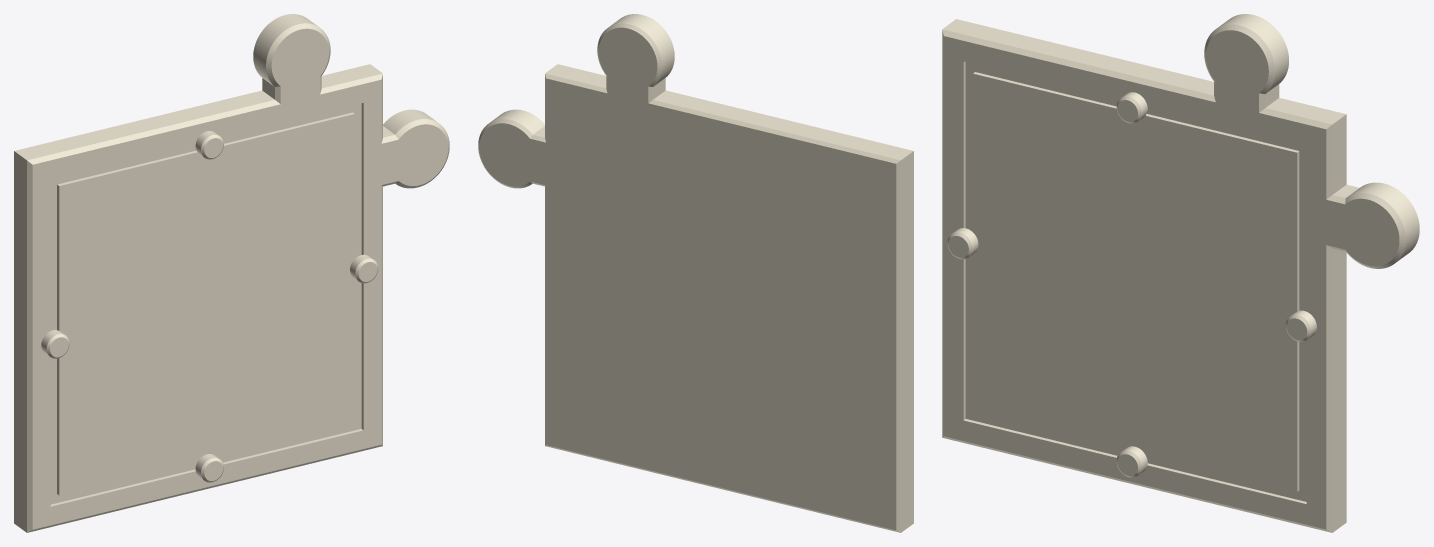
File: tile-corner-sw@ivory.glb
3 views of the same model, side by side, from view 1: azimuth 30°, elevation 25°; view 2: azimuth 150°, elevation 25°; view 3: azimuth 330°, elevation 25° (orthographic). The views are drawn at different scales.
Parts seen in each view (by area): view 1: geometry_0; view 2: geometry_0; view 3: geometry_0.
Boxes of the visible parts, left/top/right/bottom form: geometry_0: left=14, top=14, right=449, bottom=532; geometry_0: left=478, top=14, right=913, bottom=532; geometry_0: left=942, top=14, right=1419, bottom=532.
Size of the model in its own units: 58.9 by 58.9 by 5.6.
